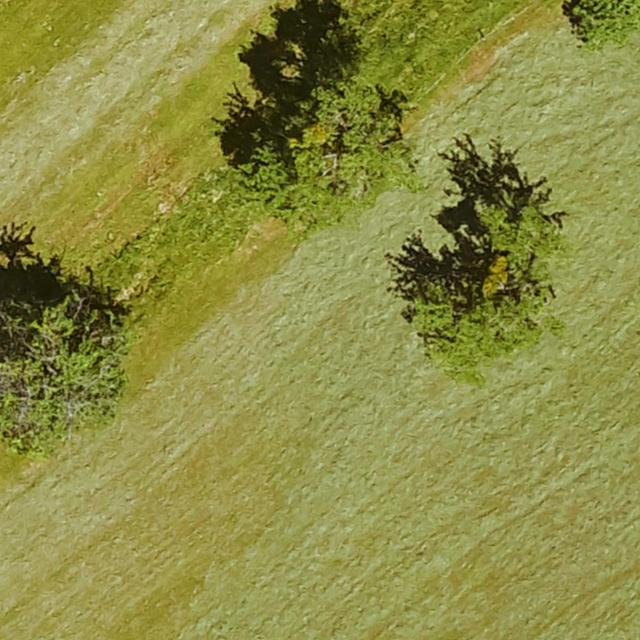tree: (0, 298, 125, 450), (246, 87, 403, 207), (404, 278, 542, 362), (482, 205, 565, 275), (567, 0, 638, 49)
